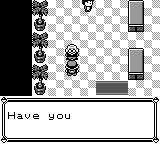main: (65, 61, 79, 75)
no-caminable: (0, 0, 30, 96), (32, 0, 48, 96), (129, 49, 144, 79), (129, 1, 143, 31)
npc: (65, 44, 79, 58), (82, 0, 94, 11)
puerta: (94, 80, 130, 95)
texto: (0, 97, 159, 143)
